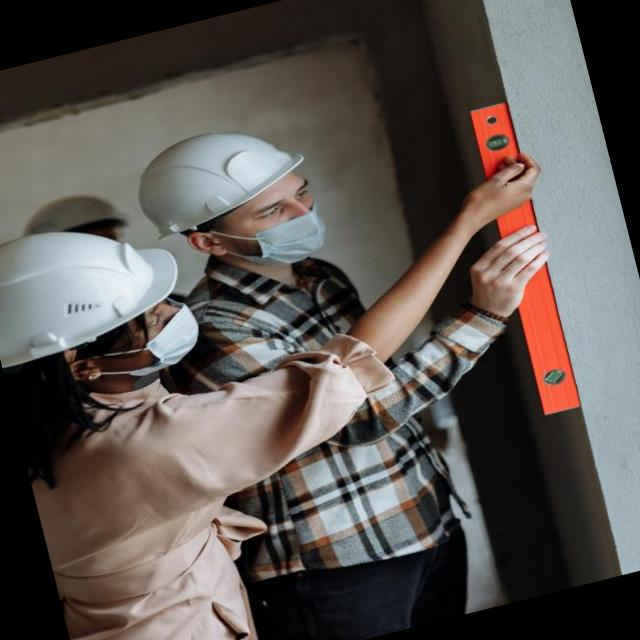Helmet: (0, 188, 205, 361), (110, 112, 320, 238)
